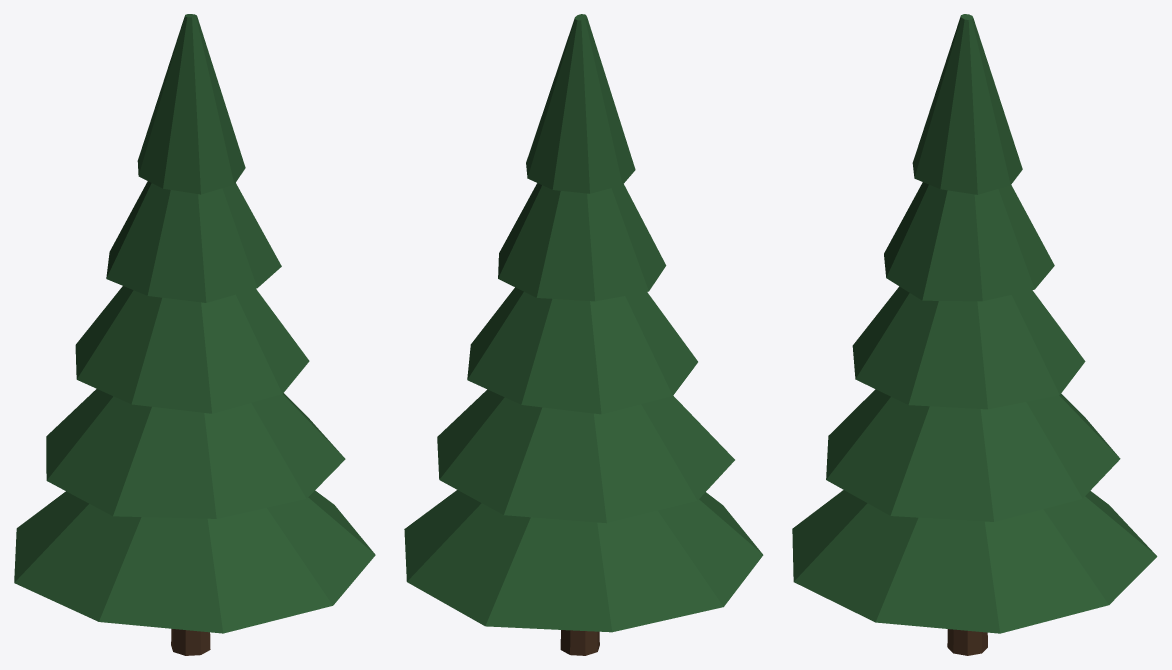
Rendered from baum_kiefer.glb.
The picture shows the model from 3 angles, left to right: view 1: azimuth 30°, elevation 25°; view 2: azimuth 150°, elevation 25°; view 3: azimuth 270°, elevation 25°; orthographic projection.
Visible parts, largest first — view 1: ebene, ebene.001, ebene.002, ebene.003, ebene.004, stamm; view 2: ebene, ebene.001, ebene.002, ebene.003, ebene.004, stamm; view 3: ebene, ebene.001, ebene.002, ebene.003, ebene.004, stamm.
Boxes of the visible parts, box(x1,y1,x2,y2) form: ebene: box(14, 490, 375, 633); ebene.001: box(46, 389, 345, 518); ebene.002: box(75, 286, 309, 413); ebene.003: box(106, 181, 281, 302); ebene.004: box(137, 14, 245, 194); stamm: box(171, 628, 210, 655); ebene: box(404, 490, 763, 632); ebene.001: box(437, 389, 734, 523); ebene.002: box(467, 287, 697, 414); ebene.003: box(498, 183, 666, 301); ebene.004: box(526, 14, 635, 193); stamm: box(560, 630, 599, 655); ebene: box(792, 490, 1157, 633); ebene.001: box(826, 389, 1120, 521); ebene.002: box(852, 286, 1085, 409); ebene.003: box(884, 182, 1054, 301); ebene.004: box(912, 14, 1022, 194); stamm: box(947, 629, 987, 655).
Size of the model in its own units: 3.99 by 7.53 by 3.95.
